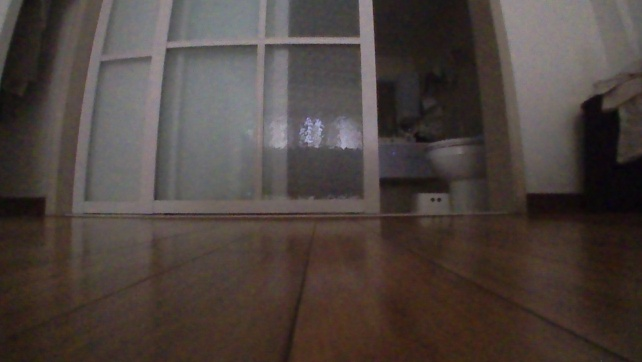toilet: (420, 131, 489, 214)
